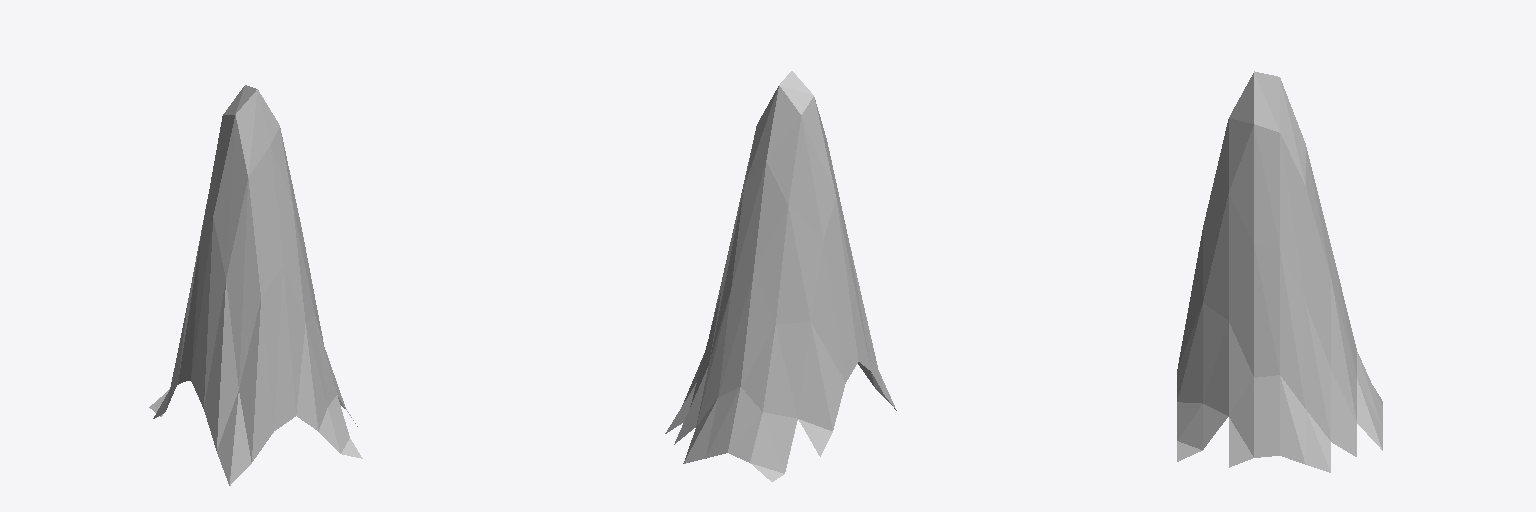
The model's file is tree_23.obj.
The picture shows the model from 3 angles: view 1: azimuth 30°, elevation 25°; view 2: azimuth 150°, elevation 25°; view 3: azimuth 270°, elevation 25°; orthographic projection.
Parts seen in each view (by area): view 1: tree_23.001; view 2: tree_23.001; view 3: tree_23.001.
Part boxes in pixels (bbox=[...]): tree_23.001: bbox=[149, 85, 362, 485]; tree_23.001: bbox=[665, 71, 896, 481]; tree_23.001: bbox=[1177, 71, 1382, 472].
Bounding box in the file's own units: 7 × 15.39 × 8.